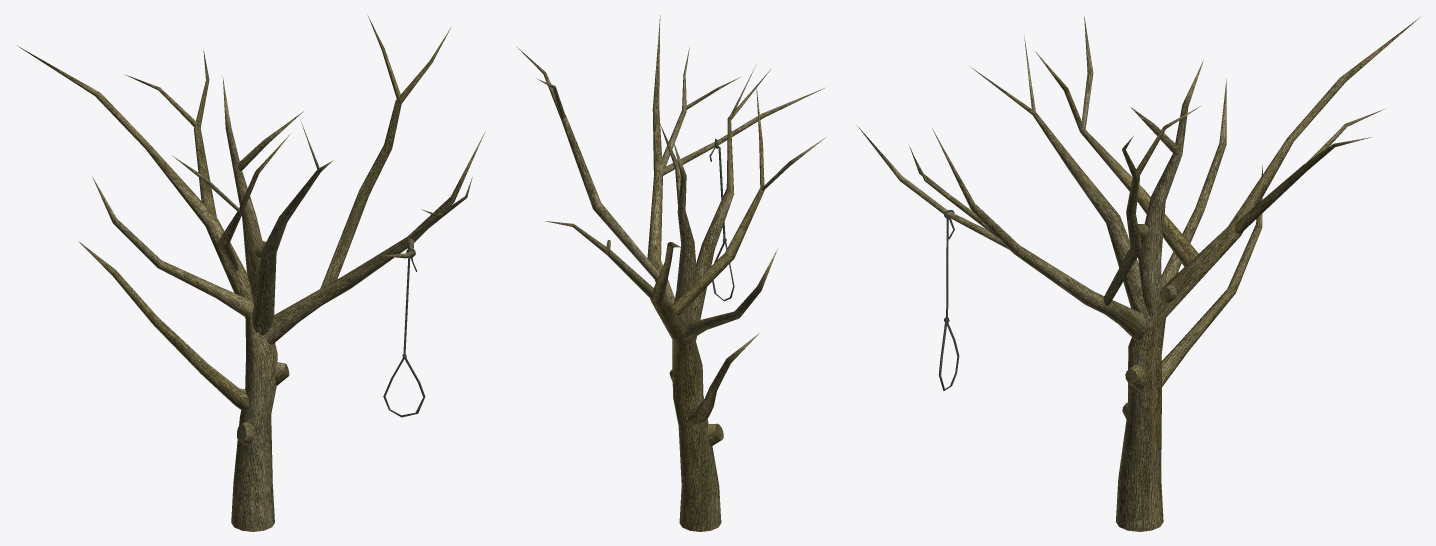
File: Wood3.fbx
3 renders of one model, left to right at view 1: azimuth 30°, elevation 25°; view 2: azimuth 150°, elevation 25°; view 3: azimuth 270°, elevation 25°, orthographic. The views are drawn at different scales.
Visible parts, largest first — view 1: Wood3, rope; view 2: Wood3, rope; view 3: Wood3, rope.
Part boxes in pixels (box(x1,y1,x2,y2)): Wood3: box(18, 16, 485, 531); rope: box(383, 248, 425, 417); Wood3: box(517, 15, 825, 531); rope: box(709, 138, 734, 301); Wood3: box(858, 16, 1420, 531); rope: box(939, 210, 959, 390).
Size of the model in its own units: 168 by 228 by 237.
